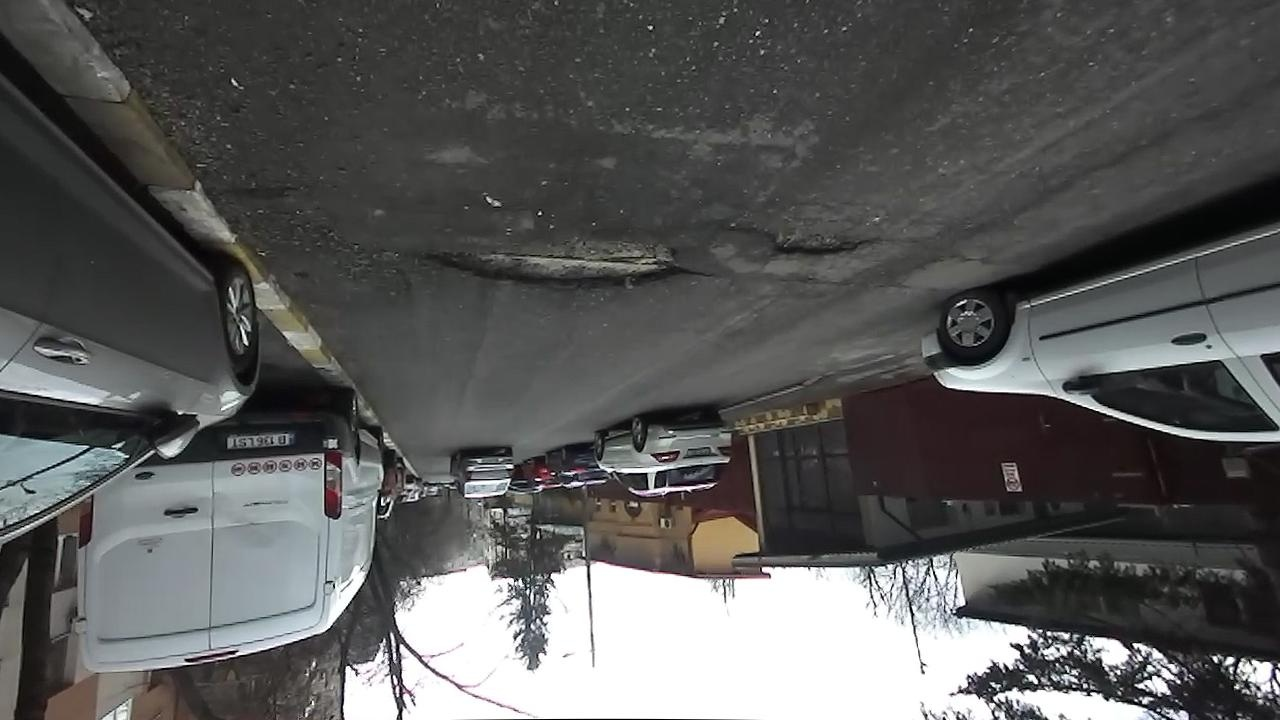pothole: (405, 228, 710, 294), (736, 219, 885, 260)
